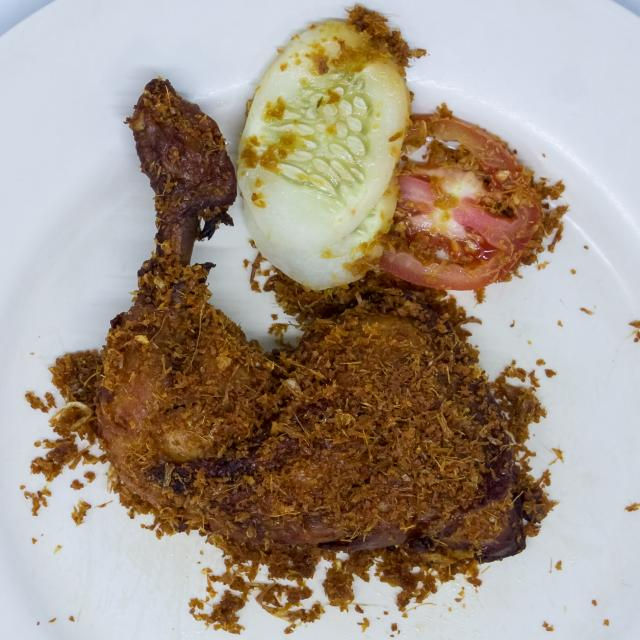Ayam-Goreng-Lengkuas: (75, 63, 561, 582)
